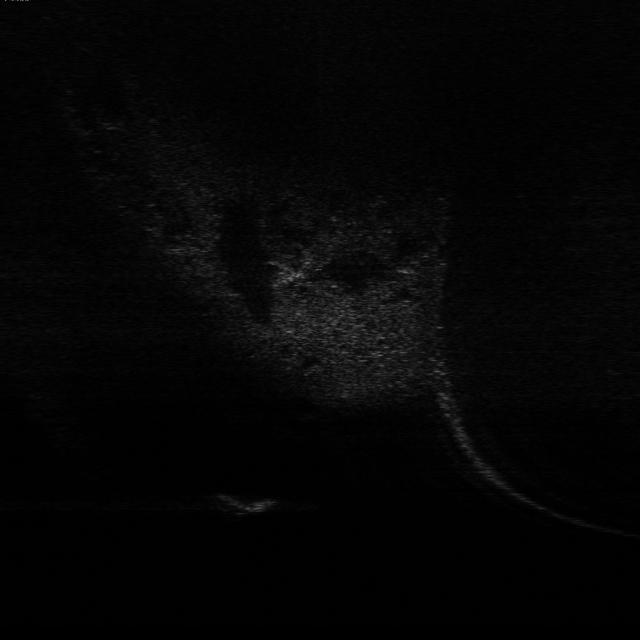square cage: (213, 482, 284, 518)
